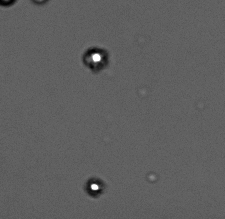Living Cell: (83, 46, 107, 70), (86, 178, 104, 195)
